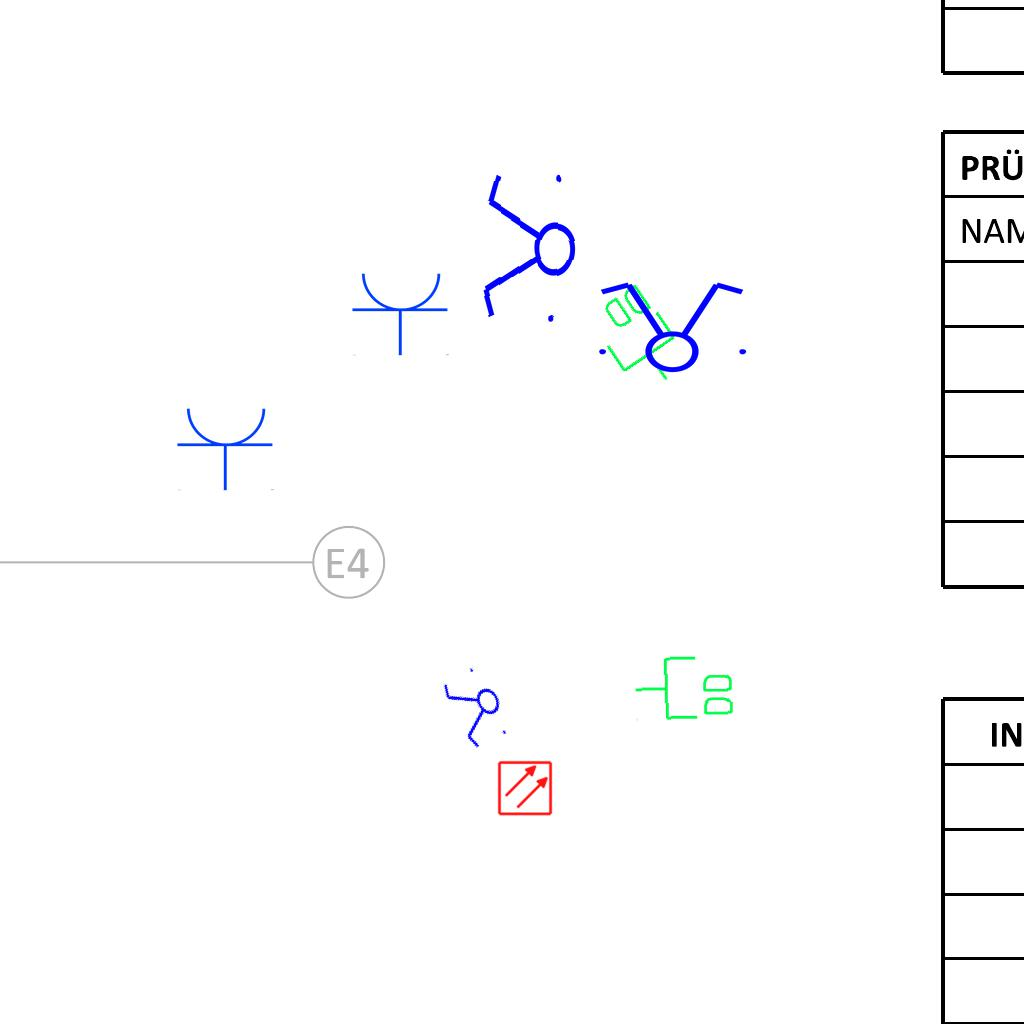Datenanschluss_zweifach: (582, 276, 697, 401), (631, 652, 738, 725)
RMO_Rauchmelder_optischer: (497, 760, 553, 816)
Schukosteckdose_einfach: (351, 269, 451, 356), (176, 404, 276, 491)
Serienschalter: (476, 162, 582, 336), (587, 278, 755, 374), (436, 659, 518, 757)
